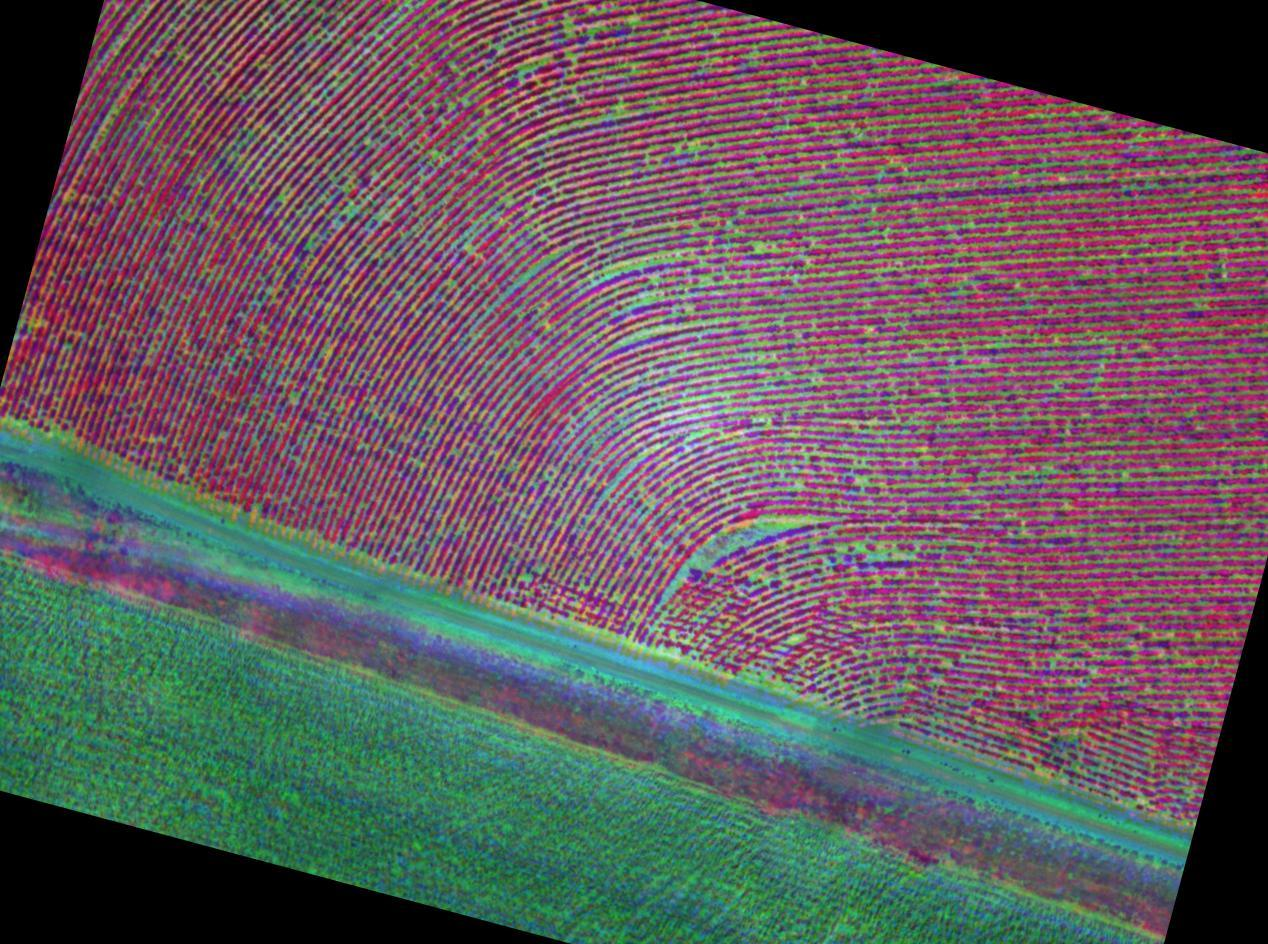dc: (586, 223, 733, 352), (678, 500, 825, 619), (226, 133, 382, 232), (518, 20, 650, 125), (848, 525, 923, 638)
